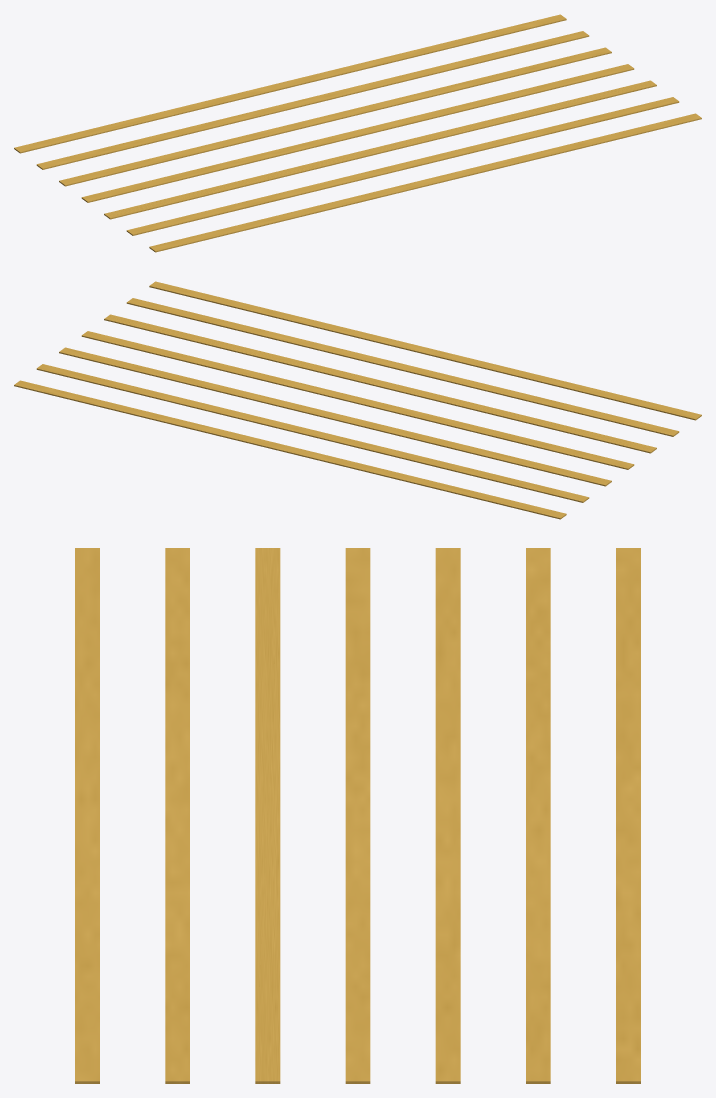
The model's file is 400_L125_TR2_RFArtwork.obj.
3 views of the same model, one above another, from view 1: azimuth 30°, elevation 25°; view 2: azimuth 150°, elevation 25°; view 3: azimuth 270°, elevation 25° (orthographic). The views are drawn at different scales.
Visible parts, largest first — view 1: 400_L125_TR2_RFArtwork__PSMAT__gold; view 2: 400_L125_TR2_RFArtwork__PSMAT__gold; view 3: 400_L125_TR2_RFArtwork__PSMAT__gold.
Boxes of the visible parts, left/top/right/bottom form: 400_L125_TR2_RFArtwork__PSMAT__gold: left=14, top=14, right=701, bottom=252; 400_L125_TR2_RFArtwork__PSMAT__gold: left=14, top=281, right=701, bottom=519; 400_L125_TR2_RFArtwork__PSMAT__gold: left=75, top=548, right=640, bottom=1083.
Bounding box in the file's own units: 0.028 × 6e-05 × 0.0126.
Materials: 1 (1 with a texture image).
